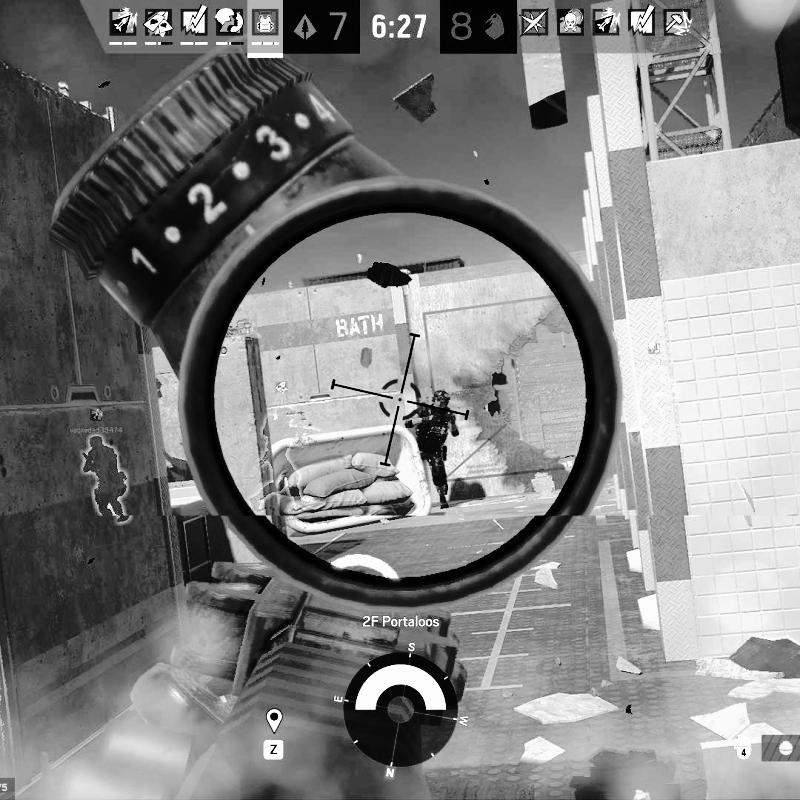Character: (403, 388, 460, 510)
Friend_label: (68, 406, 124, 434), (640, 341, 668, 368), (270, 380, 294, 406)
Head: (431, 390, 451, 408)
